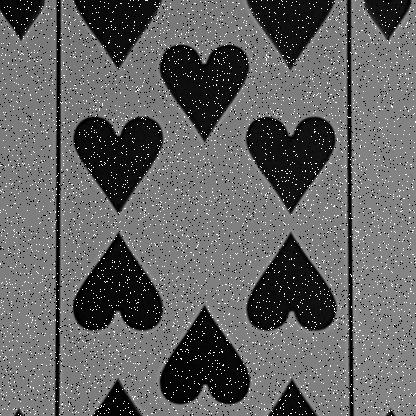10h: (361, 0, 415, 60), (0, 0, 65, 45)
